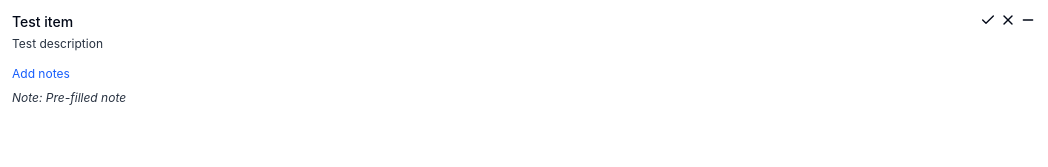
ChecklistItem - Status buttons › should initialize notes from item.notes
This screenshot has width=1048, height=167.
Click the button "Add notes" at {"x": 41, "y": 74}, box [12,66,70,82]
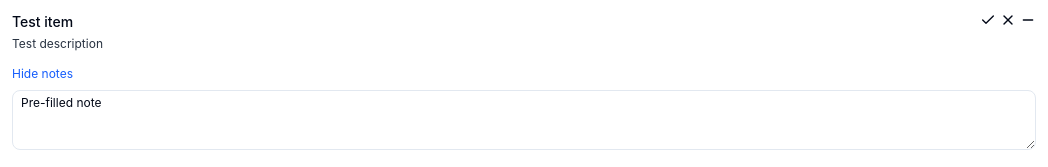
Expected: the text box with placeholder "Add notes about this check..." holds "Pre-filled note", [12,90,1036,150]
